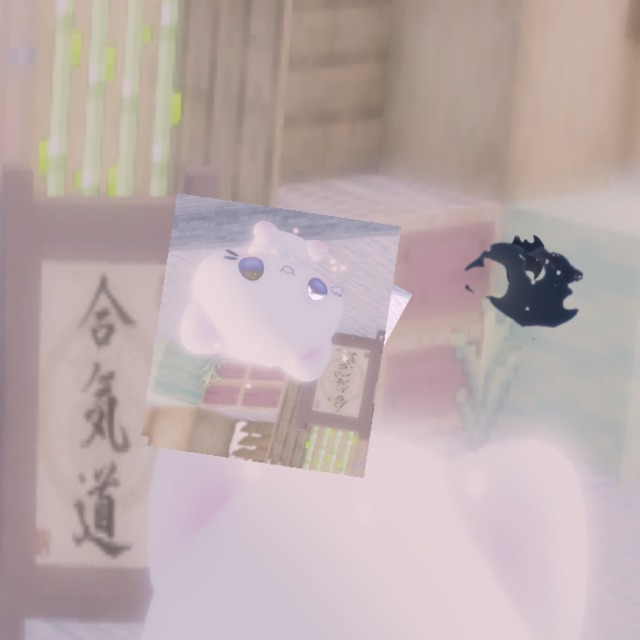urso_branco: (139, 193, 402, 478), (215, 227, 413, 431)
urso_preto: (432, 200, 620, 369), (488, 218, 563, 307)
